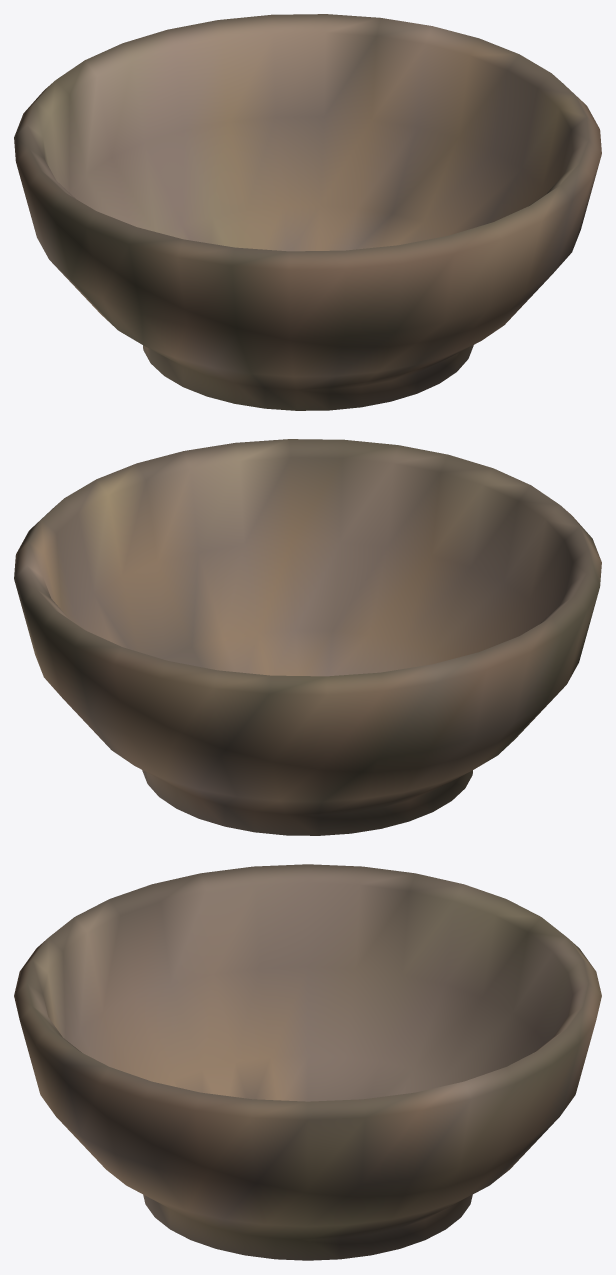
File: Modelo1.gltf
The picture shows the model from 3 angles, top to bottom: view 1: azimuth 30°, elevation 25°; view 2: azimuth 150°, elevation 25°; view 3: azimuth 270°, elevation 25°; orthographic projection.
Parts seen in each view (by area): view 1: Cylinder; view 2: Cylinder; view 3: Cylinder.
Part boxes in pixels (x1,y1,x2,y2): Cylinder: (14, 14, 601, 410); Cylinder: (14, 439, 601, 835); Cylinder: (14, 864, 601, 1260).
Size of the model in its own units: 3.55 by 1.38 by 3.55.
